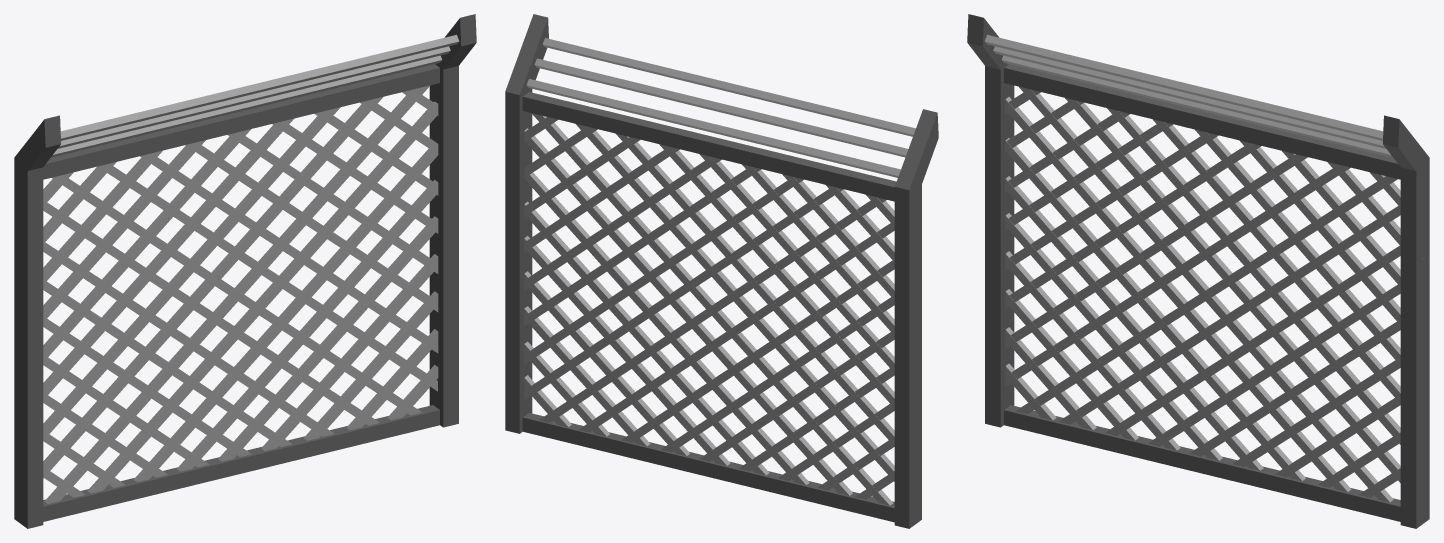
The model's file is MetalFence.fbx.
The picture shows the model from 3 angles, left to right: view 1: azimuth 30°, elevation 25°; view 2: azimuth 150°, elevation 25°; view 3: azimuth 330°, elevation 25°; orthographic projection. The views are drawn at different scales.
Visible parts, largest first — view 1: MetalFence; view 2: MetalFence; view 3: MetalFence.
Boxes of the visible parts, box(x1,y1,x2,y2) form: MetalFence: box(14, 14, 476, 528); MetalFence: box(505, 14, 938, 528); MetalFence: box(967, 14, 1429, 528).
Bounding box in the file's own units: 3094 × 2894 × 391.
1 material, 1 textured.
